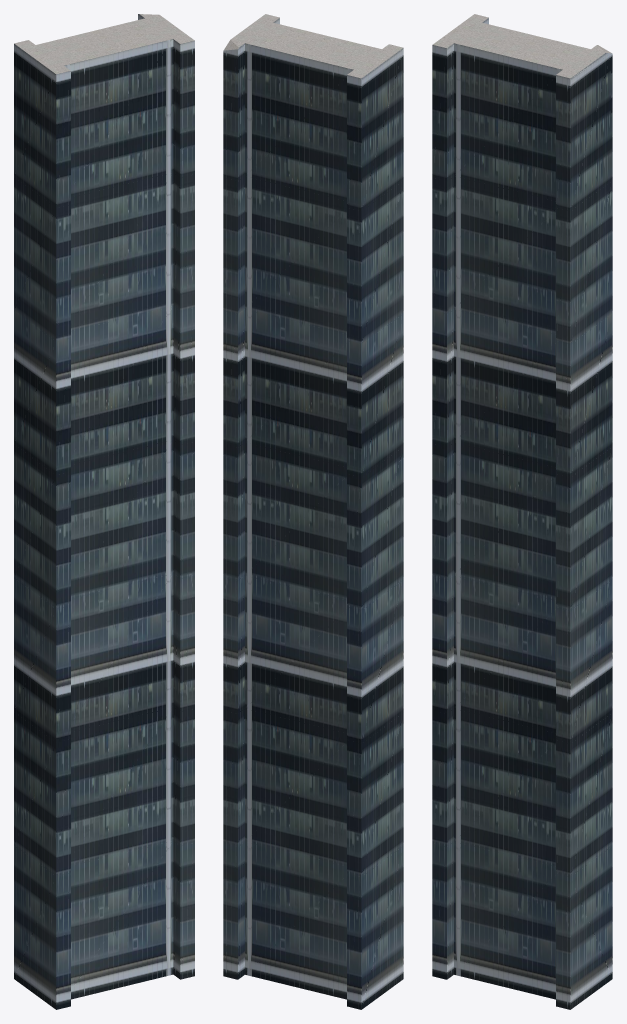
The model's file is building20.gltf.
3 renders of one model, left to right at view 1: azimuth 30°, elevation 25°; view 2: azimuth 150°, elevation 25°; view 3: azimuth 330°, elevation 25°, orthographic.
Parts seen in each view (by area): view 1: building20; view 2: building20; view 3: building20.
Part boxes in pixels (x1,y1,x2,y2): building20: (14, 14, 194, 1009); building20: (223, 14, 403, 1009); building20: (432, 14, 612, 1009).
Size of the model in its own units: 3.08 by 19.85 by 1.63.
Materials: 2 (2 with a texture image).
